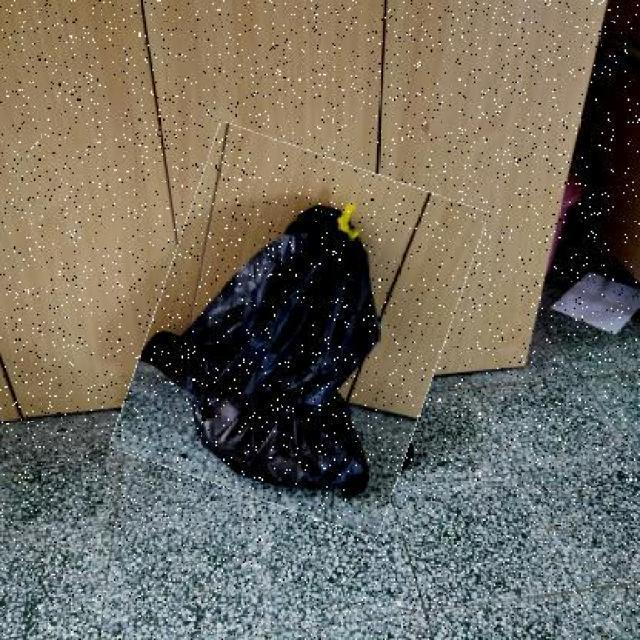waste: (132, 139, 465, 521)
